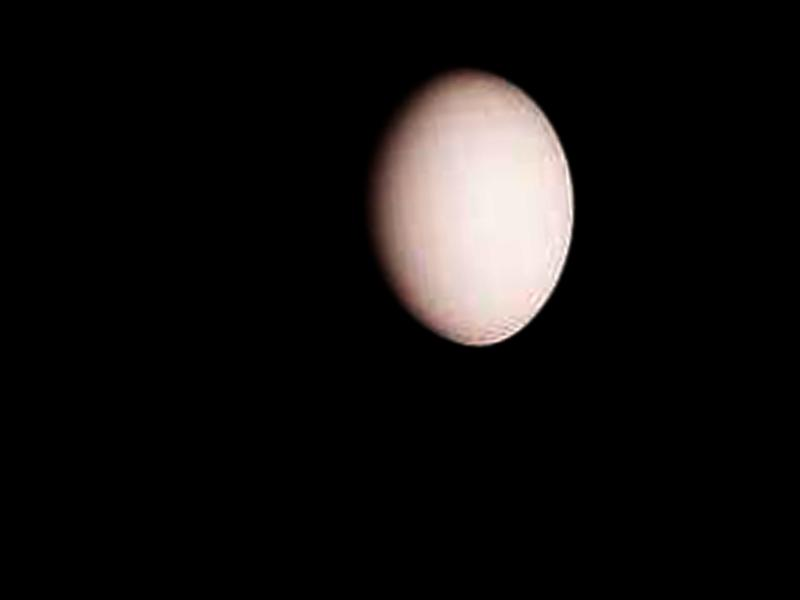Eggs: (352, 52, 587, 356)
